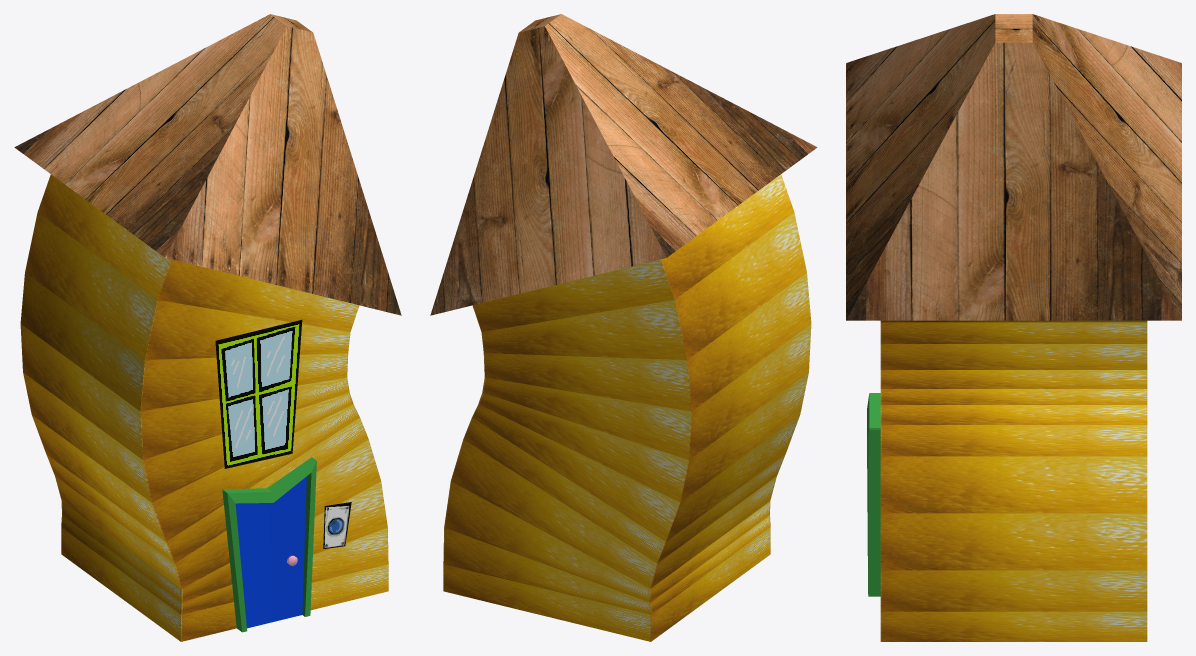
File: House4.fbx
The picture shows the model from 3 angles, left to right: view 1: azimuth 30°, elevation 25°; view 2: azimuth 150°, elevation 25°; view 3: azimuth 270°, elevation 25°; orthographic projection. The views are drawn at different scales.
Parts seen in each view (by area): view 1: House 4, Door.001, Plane.007, Doorbell 2.001; view 2: House 4; view 3: House 4, Door.001.
Boxes of the visible parts, <box> form: House 4: <box>14,14,401,641</box>; Door.001: <box>222,457,316,632</box>; Plane.007: <box>215,320,302,468</box>; Doorbell 2.001: <box>323,502,351,548</box>; House 4: <box>430,14,817,641</box>; House 4: <box>846,14,1181,641</box>; Door.001: <box>867,393,880,596</box>.
Size of the model in its own units: 32.15 by 66.79 by 33.84.
